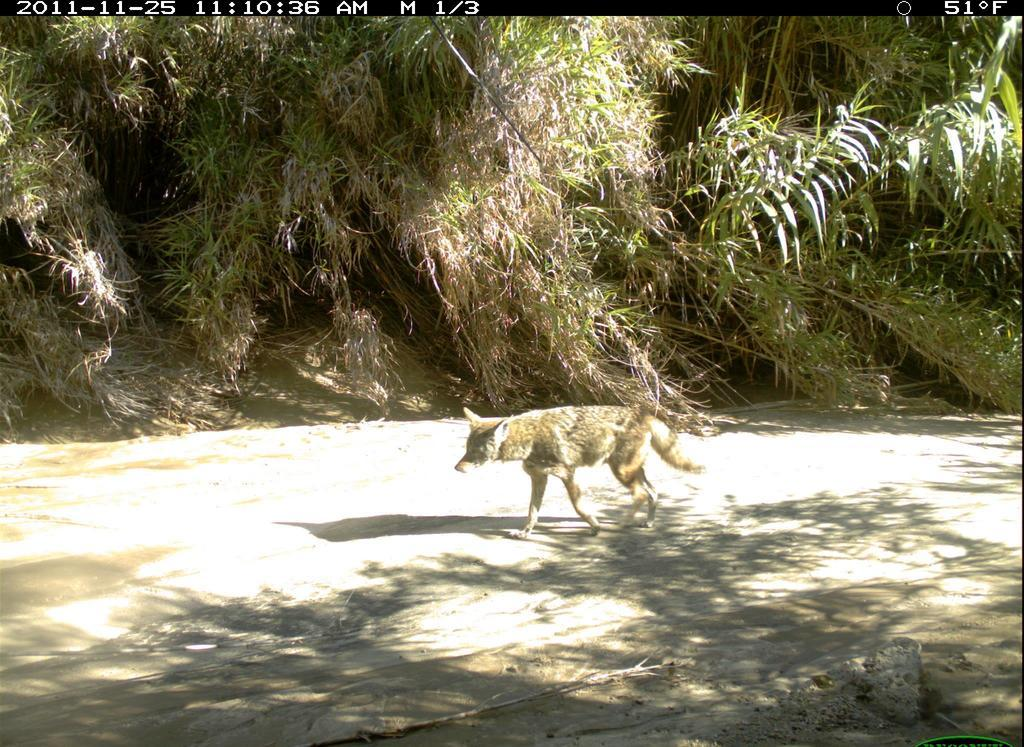coyote: (454, 386, 712, 542)
